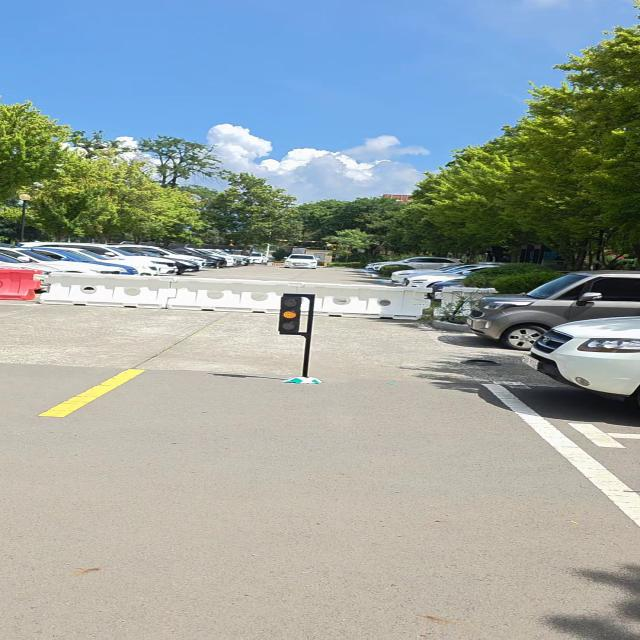yellow: (279, 295, 302, 334)
